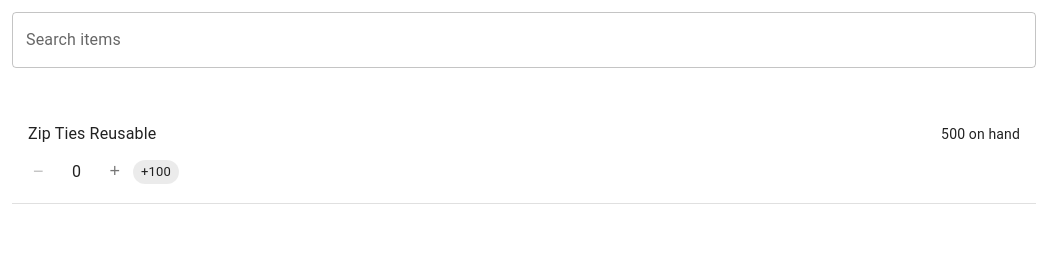
Test: adding to the batch › puts a line in the batch when the stepper is tapped
This screenshot has width=1048, height=273.
Expected: the heading "Zip Ties Reusable" is shown, [28,120,156,148]
Click the button named "Add one Zip Ties Reusable": (115, 172) [104,156,125,187]
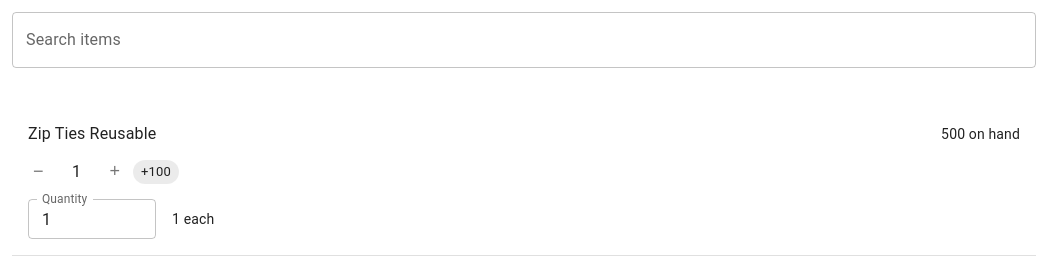
Result: the field named "quantity of zip ties reusable" holds "1" at [28,199,156,239]
